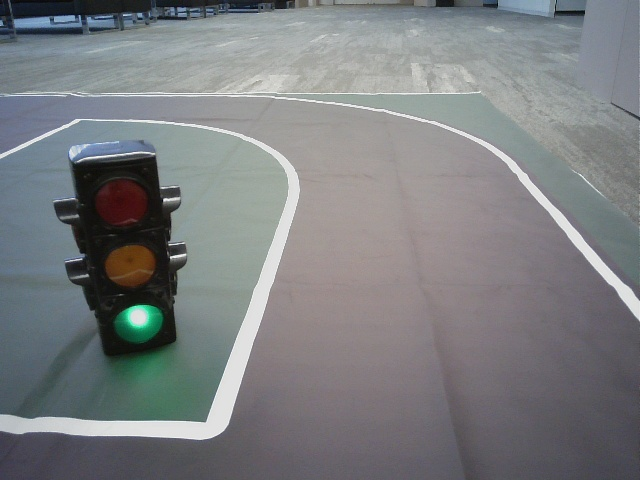green: (84, 162, 172, 350)
